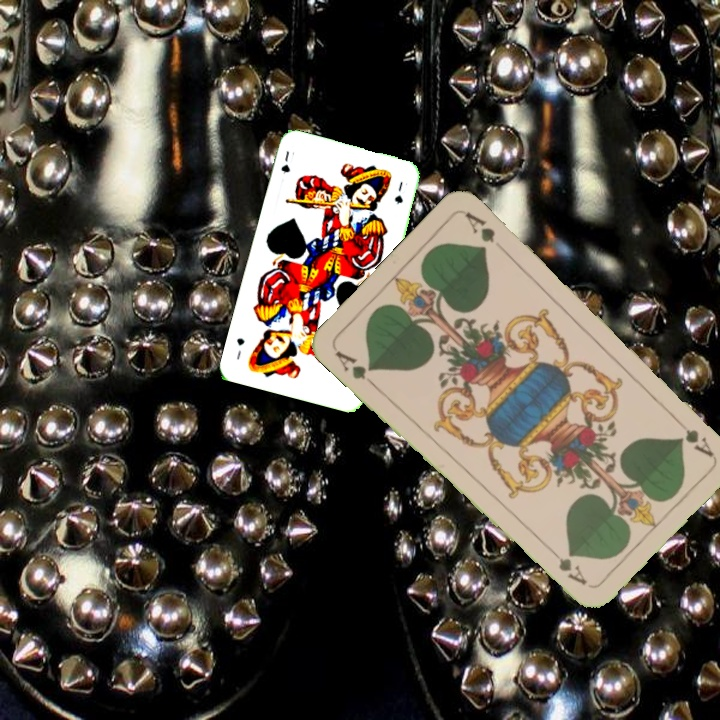GA: (669, 412, 716, 459), (331, 346, 379, 390)
GU: (277, 147, 297, 177)
